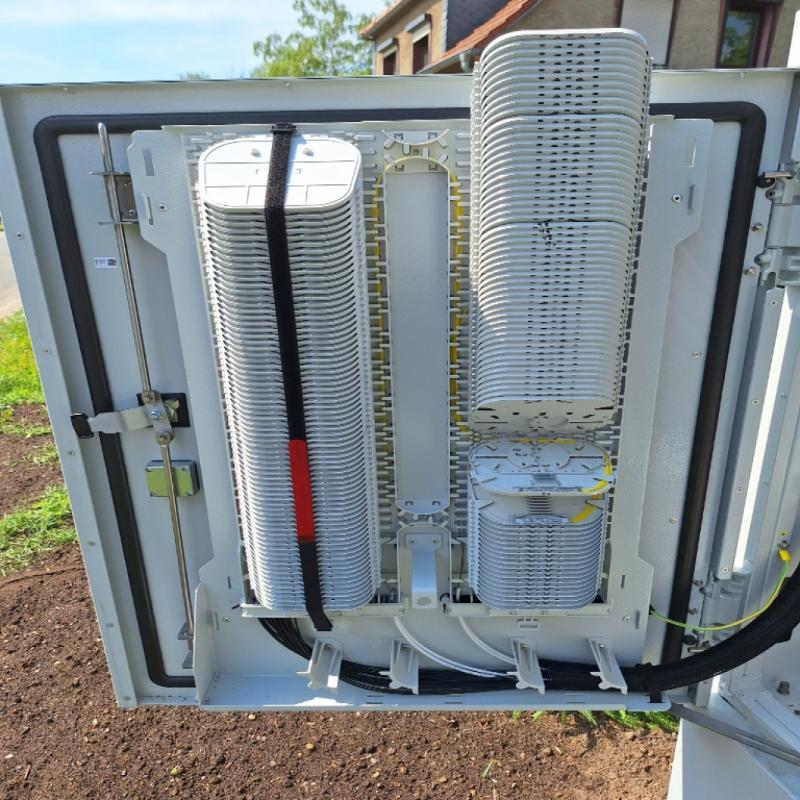NT-Gehause: (3, 16, 799, 800)
Spleiskassetten: (461, 24, 659, 603), (177, 124, 395, 632)
